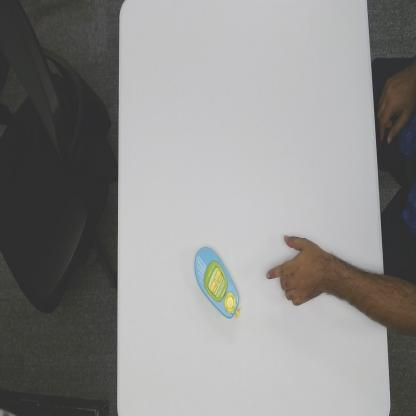Arm: (328, 251, 386, 327)
Boat: (193, 245, 244, 322)
Hand: (265, 233, 328, 308)
